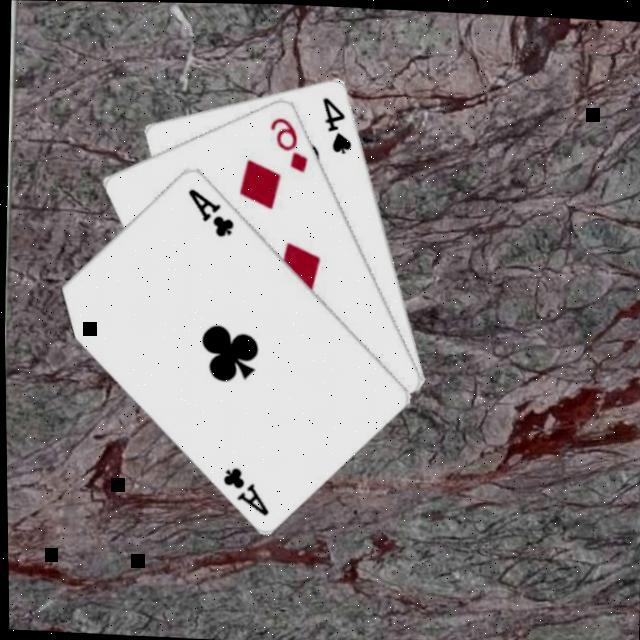4S: (318, 93, 358, 156)
6D: (266, 112, 314, 175)
AC: (217, 463, 273, 519), (184, 184, 239, 240)
